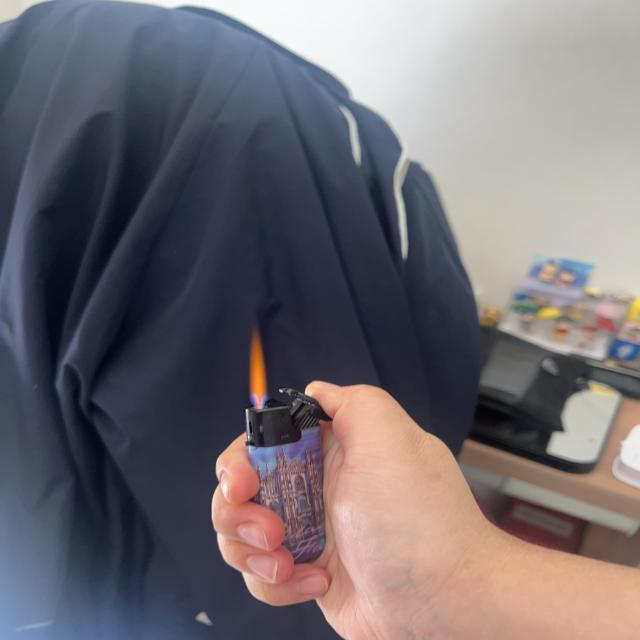fire: (243, 327, 271, 405)
